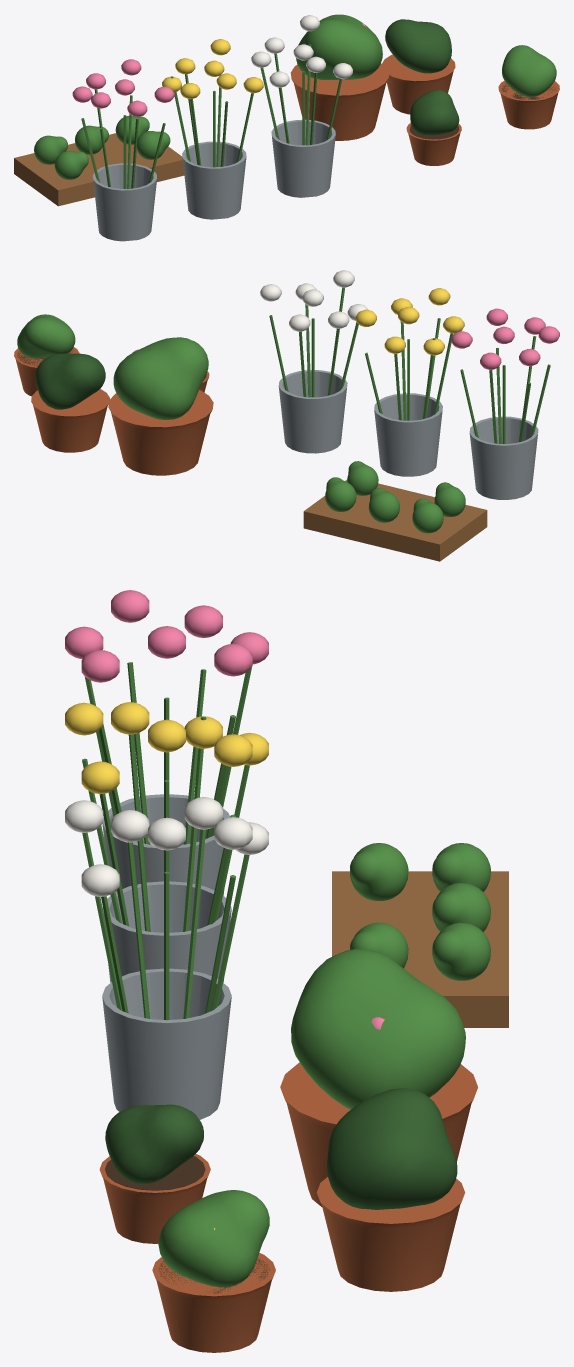
Rendered from goods-flowers.glb.
3 views of the same model, one above another, from view 1: azimuth 30°, elevation 25°; view 2: azimuth 150°, elevation 25°; view 3: azimuth 270°, elevation 25° (orthographic). The views are drawn at different scales.
Parts seen in each view (by area): view 1: pot69, crate93, bucket0, bucket46, bucket23, leaf71, leafDark79, pot77, leaf83, pot81, leafDark91, pot89 (+6 smaller); view 2: crate93, leaf71, pot69, bucket46, bucket0, bucket23, pot77, leafDark79, leaf83, leaf94, leaf99, leaf95 (+3 smaller); view 3: leaf71, bucket46, leafDark79, crate93, pot77, leaf83, pot81, bucket23, pot69, leafDark91, bucket0, pot89 (+29 smaller).
Part boxes in pixels (x1,y1,x2,y2): pot69: (290, 63, 388, 140); crate93: (14, 133, 184, 206); bucket0: (92, 163, 157, 241); bucket46: (271, 119, 335, 197); bucket23: (182, 141, 246, 219); leaf71: (296, 14, 382, 79); leafDark79: (385, 19, 451, 73); pot77: (382, 54, 455, 114); leaf83: (502, 45, 556, 96); pot81: (498, 80, 559, 129); leafDark91: (410, 89, 459, 135); pot89: (406, 123, 461, 165); crate93: (303, 479, 487, 561); leaf71: (113, 337, 208, 419); pot69: (108, 389, 213, 475); bucket46: (278, 370, 347, 453); bucket0: (469, 416, 538, 499); bucket23: (374, 393, 442, 476); pot77: (31, 388, 109, 452); leafDark79: (35, 353, 105, 409); leaf83: (17, 314, 75, 358); leaf94: (412, 498, 443, 533); leaf99: (325, 477, 356, 511); leaf95: (368, 488, 399, 522); leaf71: (291, 948, 465, 1109); bucket46: (102, 968, 231, 1119); leafDark79: (326, 1088, 457, 1209); crate93: (332, 871, 508, 1027); pot77: (316, 1177, 465, 1291); leaf83: (158, 1190, 269, 1287); pot81: (152, 1253, 275, 1352); bucket23: (102, 881, 231, 982); pot69: (280, 1062, 477, 1206); leafDark91: (105, 1104, 203, 1183); bucket0: (102, 794, 229, 895); pot89: (99, 1154, 210, 1243).
Size of the model in its own units: 1.9 by 0.572 by 0.7529.
